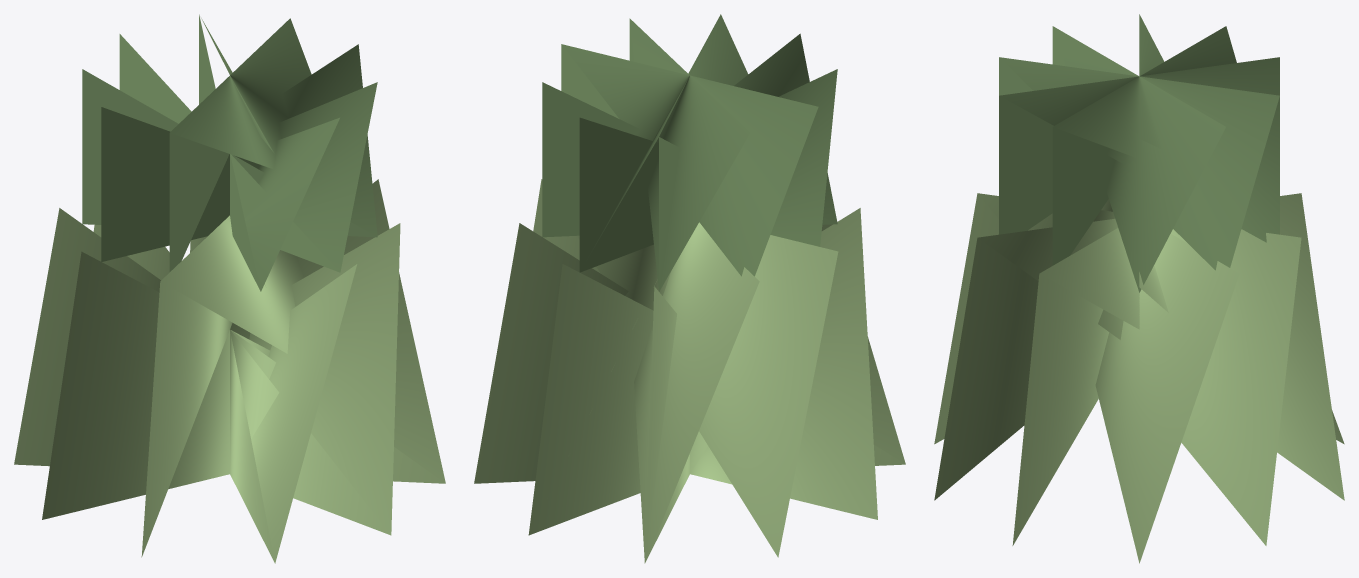
Rendered from enemy_grunt.glb.
The picture shows the model from 3 angles, left to right: view 1: azimuth 30°, elevation 25°; view 2: azimuth 150°, elevation 25°; view 3: azimuth 270°, elevation 25°; orthographic projection.
Visible parts, largest first — view 1: body; view 2: body; view 3: body.
Part boxes in pixels (left/top/right/bottom): body: left=14, top=14, right=445, bottom=563; body: left=474, top=14, right=905, bottom=563; body: left=934, top=14, right=1344, bottom=563.
Size of the model in its own units: 0.76 by 0.77 by 0.7228.
